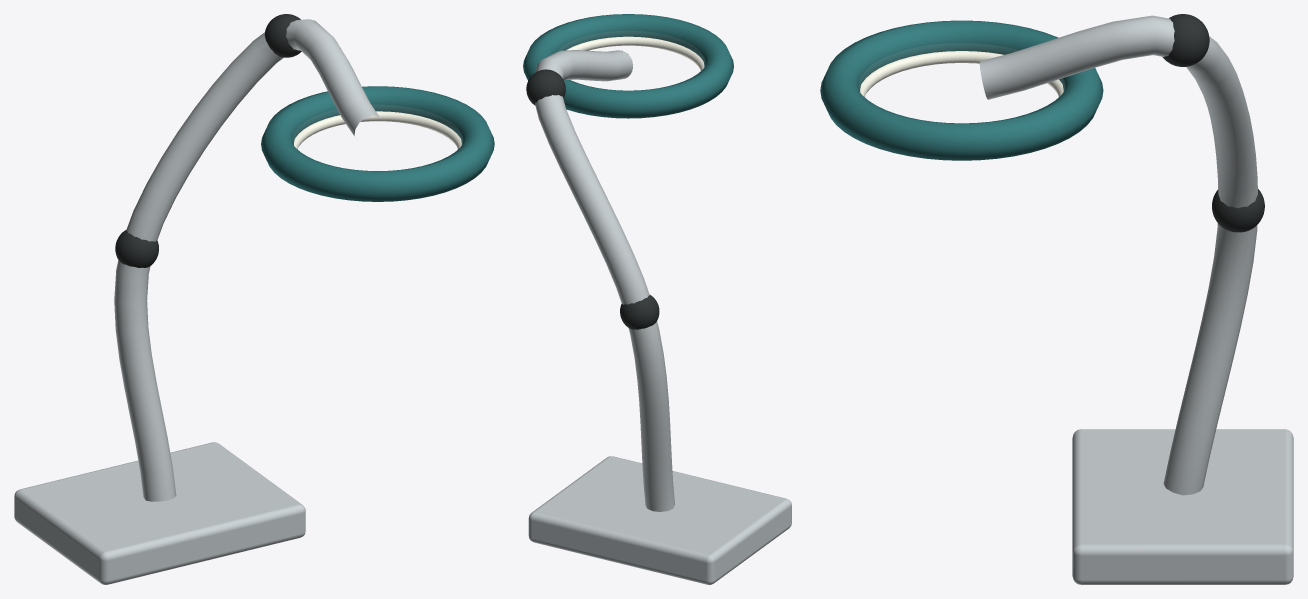
Rendered from tabletop-hobby-store-and-club-magnifying-task-lamp-9a96d0ed__31585.glb.
3 views of the same model, side by side, from view 1: azimuth 30°, elevation 25°; view 2: azimuth 150°, elevation 25°; view 3: azimuth 270°, elevation 25° (orthographic). The views are drawn at different scales.
Parts seen in each view (by area): view 1: magnifying-task-lamp; view 2: magnifying-task-lamp; view 3: magnifying-task-lamp.
Boxes of the visible parts, bbox=[...] form: magnifying-task-lamp: bbox=[14, 14, 494, 584]; magnifying-task-lamp: bbox=[523, 14, 791, 584]; magnifying-task-lamp: bbox=[820, 14, 1293, 584].
Size of the model in its own units: 0.209 by 0.2938 by 0.214.
